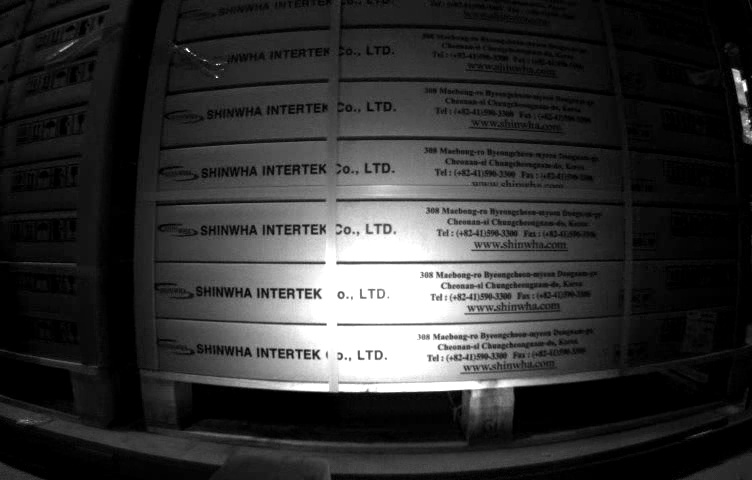True Barcode: (683, 308, 717, 353)
